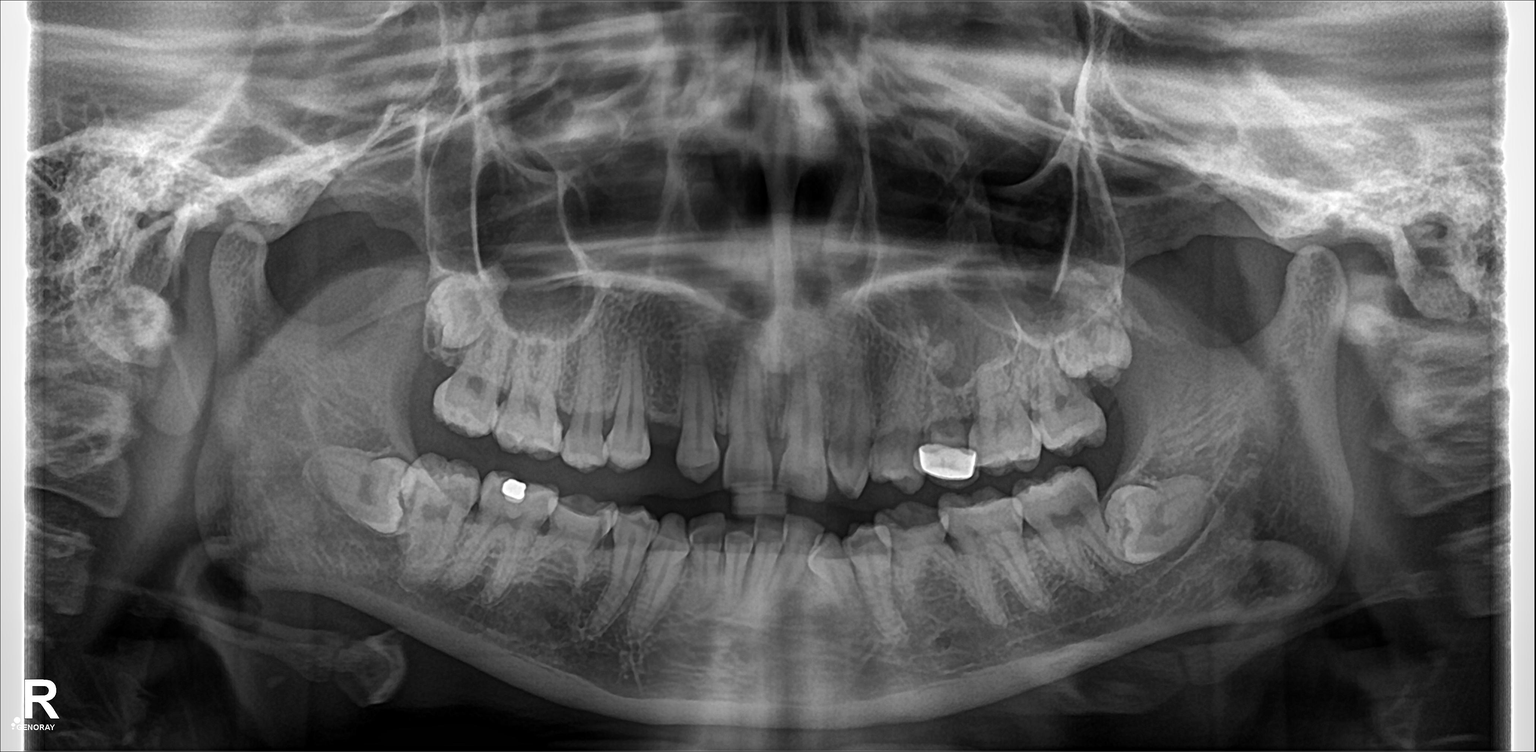Dental Caries: (421, 501, 456, 526)
Impacted Third Molar: (305, 445, 404, 532), (1115, 469, 1211, 557), (1047, 285, 1135, 374), (425, 268, 496, 355)
Missing Tooth: (637, 329, 687, 456)
